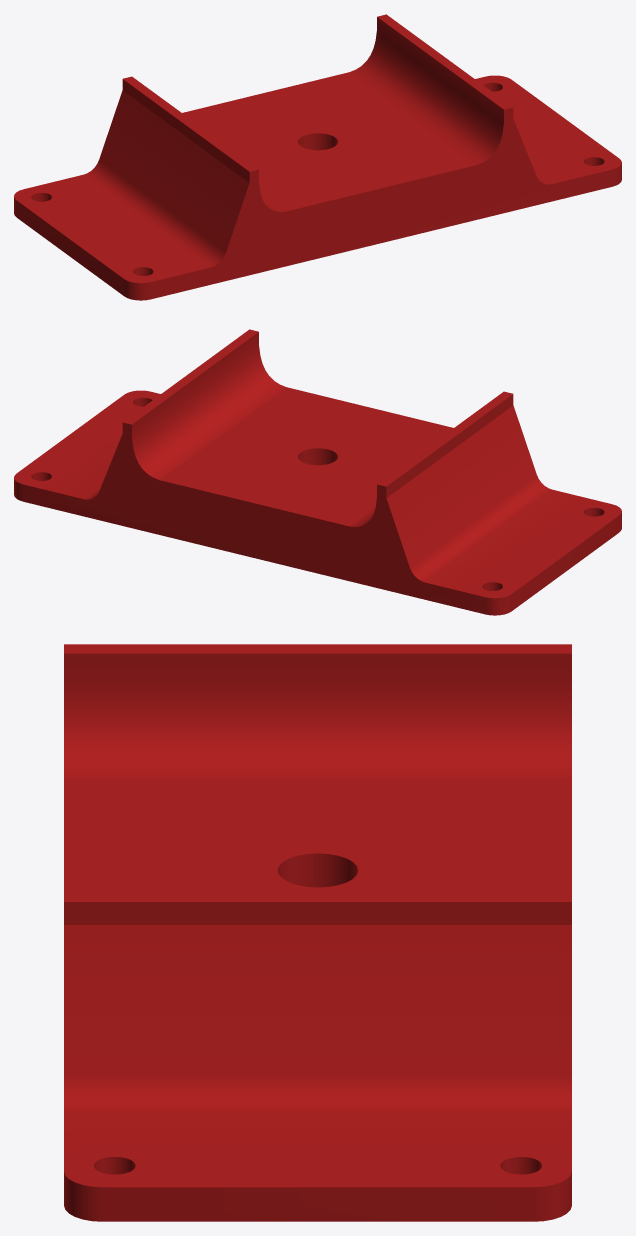
File: CLM_BaseCam_1.dae
3 views of the same model, one above another, from view 1: azimuth 30°, elevation 25°; view 2: azimuth 150°, elevation 25°; view 3: azimuth 270°, elevation 25° (orthographic). The views are drawn at different scales.
Visible parts, largest first — view 1: node0; view 2: node0; view 3: node0.
Part boxes in pixels (x1,y1,x2,y2): node0: [14, 14, 621, 300]; node0: [14, 329, 621, 615]; node0: [64, 644, 571, 1221].
Size of the model in its own units: 0.09 by 0.018 by 0.04.
